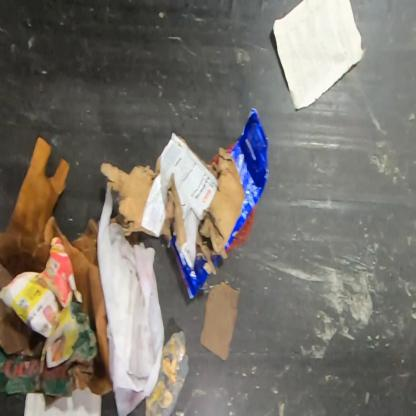cardboard: (0, 135, 113, 399), (100, 132, 246, 276), (0, 297, 99, 398)
soft_plastic: (225, 107, 270, 251), (170, 235, 210, 299)
